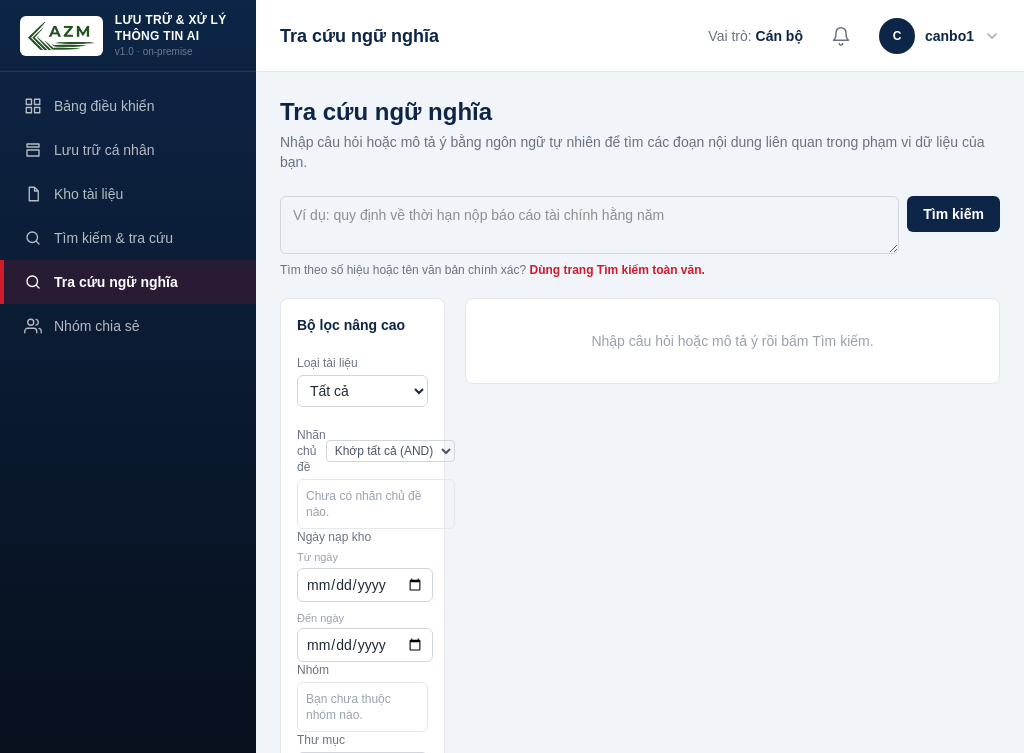
SemanticSearchPage › labels a video summary and opens it from the start (AC-2.5)
The width and height of the screenshot is (1024, 753).
Type "thời hạn nộp báo cáo" into the text box named "Câu hỏi hoặc mô tả ý" at [590, 225], box [280, 196, 899, 254]
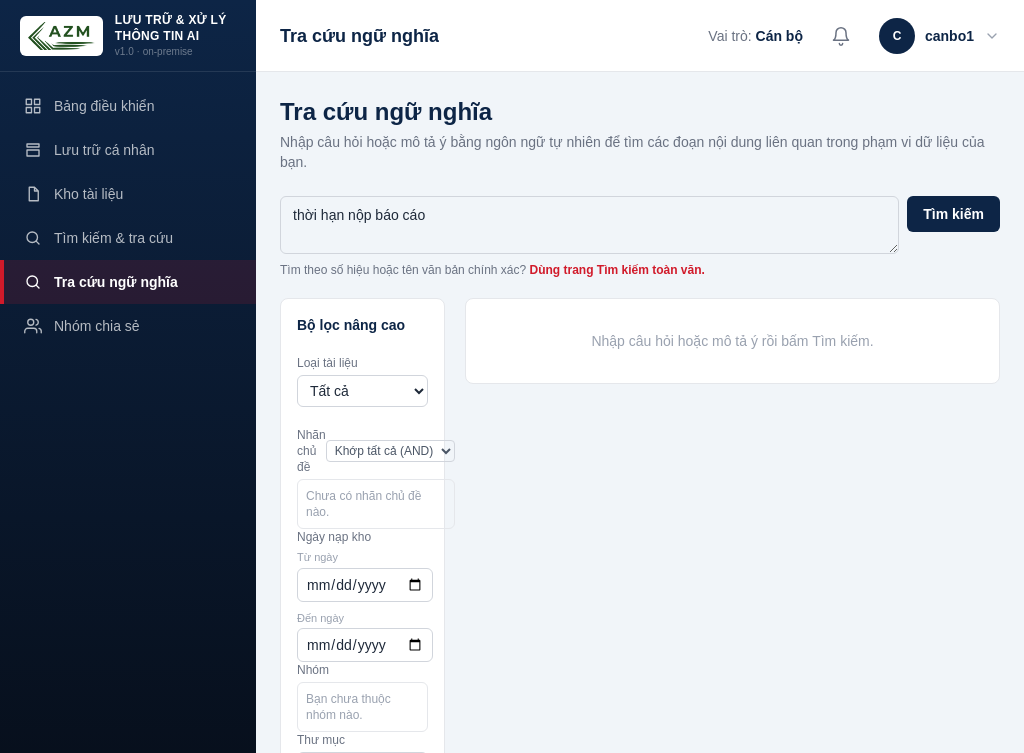
Click the button "Tìm kiếm" at [954, 214], box [907, 196, 1000, 232]
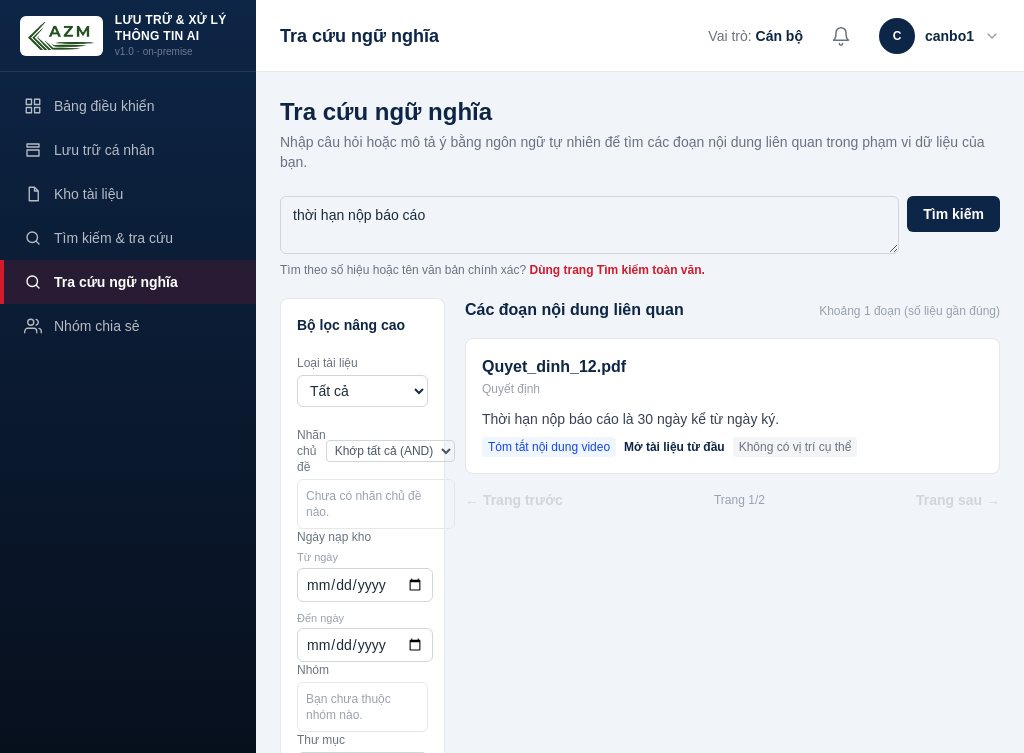
expect the text "Tóm tắt nội dung video" is shown: met, box [482, 437, 616, 457]
expect the text "Không có vị trí cụ thể" is shown: met, box [733, 437, 857, 457]
expect the button "Mở tài liệu từ đầu" is shown: met, box [624, 439, 725, 455]
